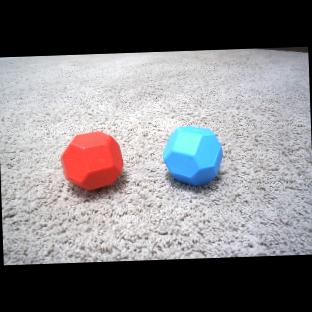V5_BLUE: (162, 122, 225, 187)
V5_RED: (63, 130, 123, 192)
